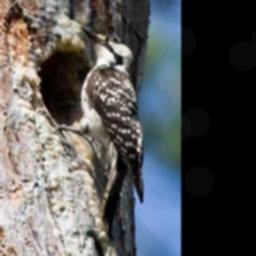Woodpecker: (57, 20, 152, 245)
